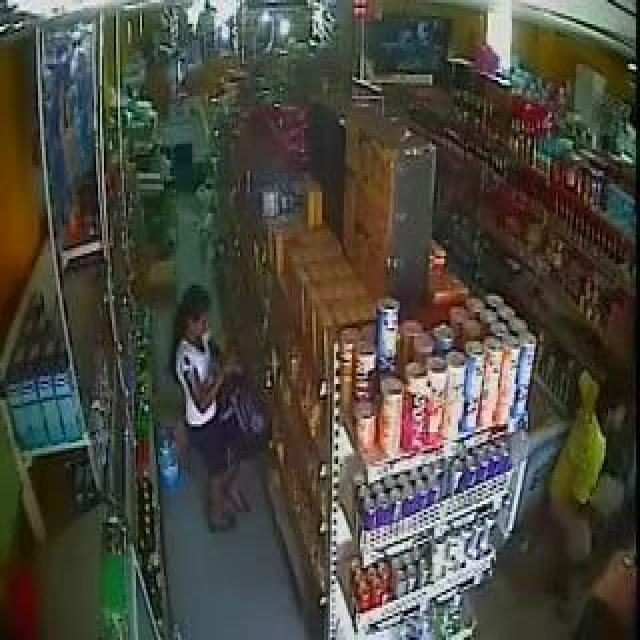Shoplifting: (153, 242, 310, 598)
